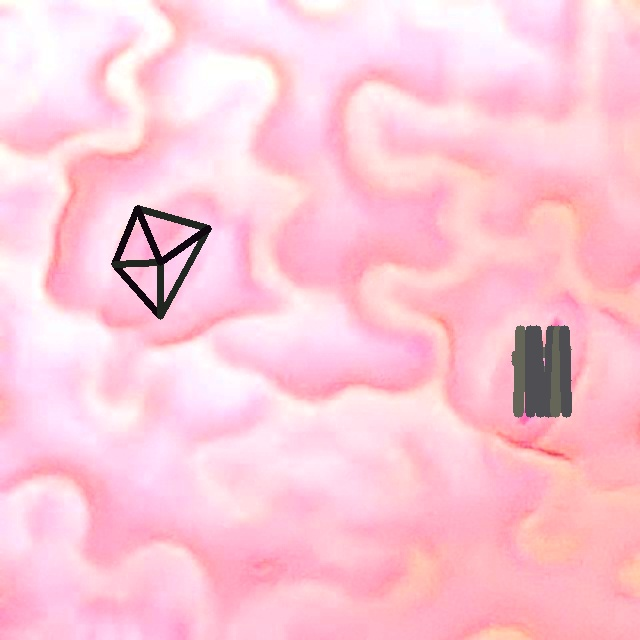open: (111, 206, 210, 319), (511, 326, 571, 416)
